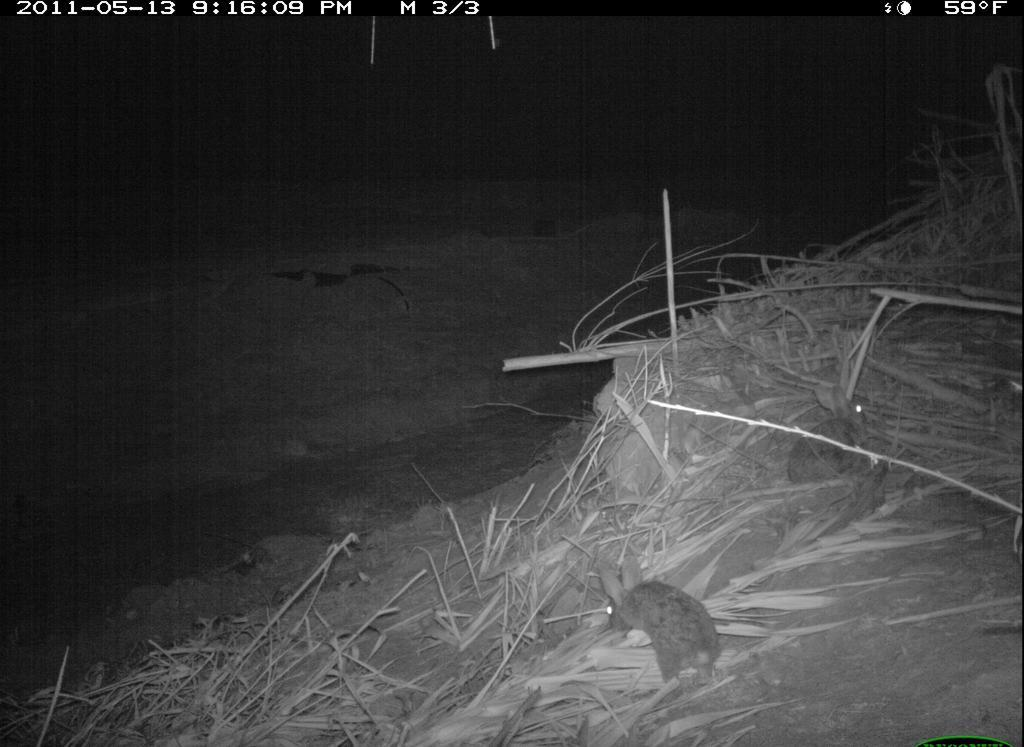rabbit: (596, 548, 738, 688), (783, 369, 890, 501)
